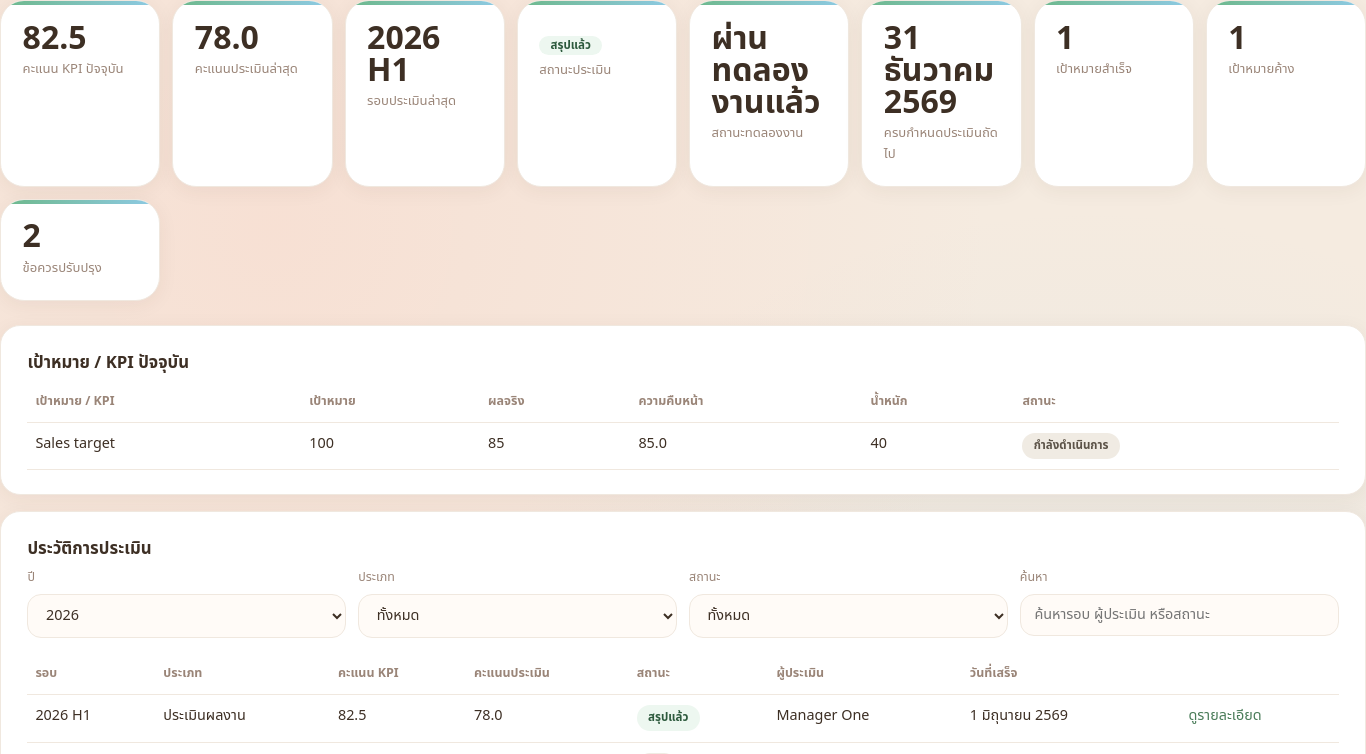
EmployeePerformanceTab › filters review history by status
Select "ร่าง" in the dropdown with test id "performance-filter-status" at {"x": 848, "y": 616}, box [689, 594, 1008, 638]
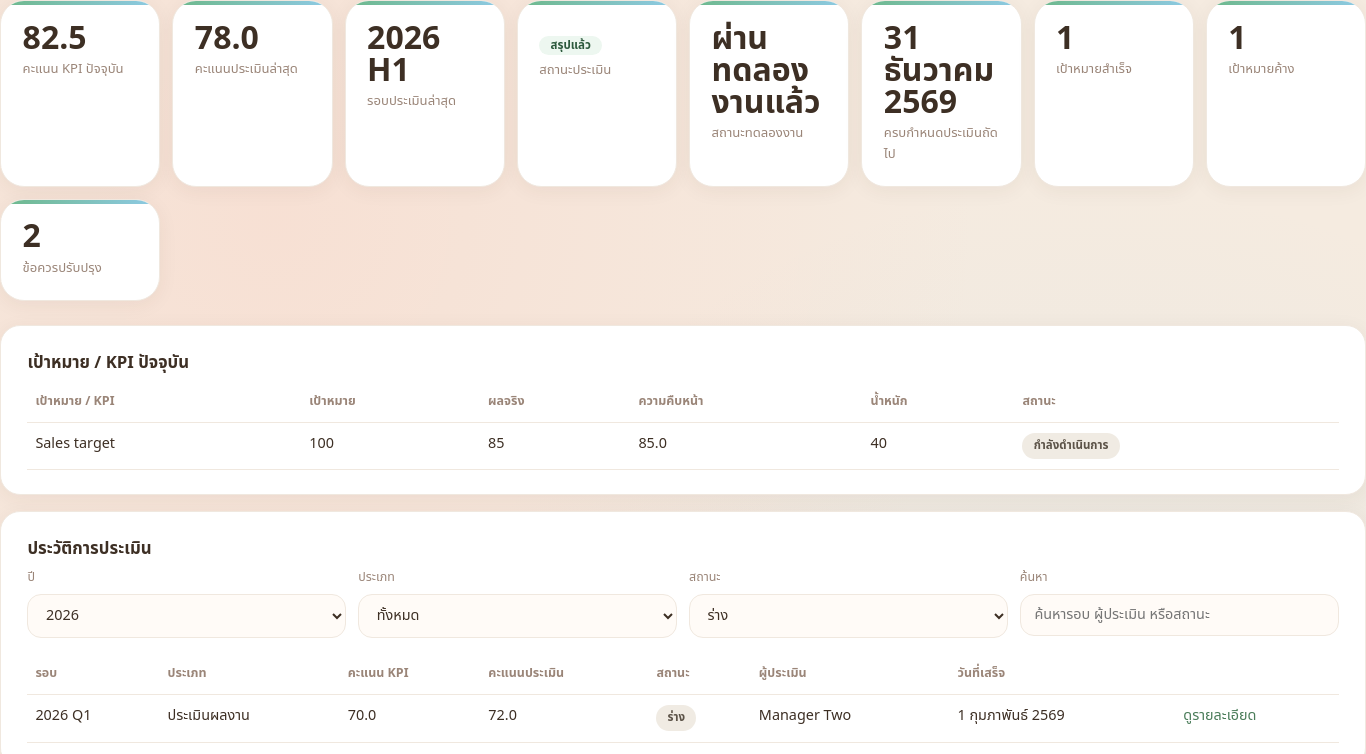
Expected: the row with test id "performance-history-row-review-2" is shown, [27, 694, 1339, 742]
Result: the row with test id "performance-history-row-review-1" is gone
